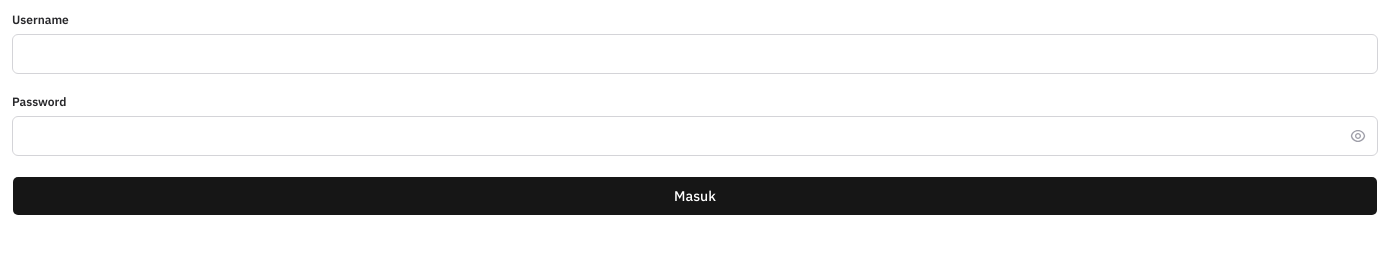
LoginForm › displays validation errors when submitting empty form
Click the button "Masuk".
click(695, 196)  # box [12,176,1378,216]
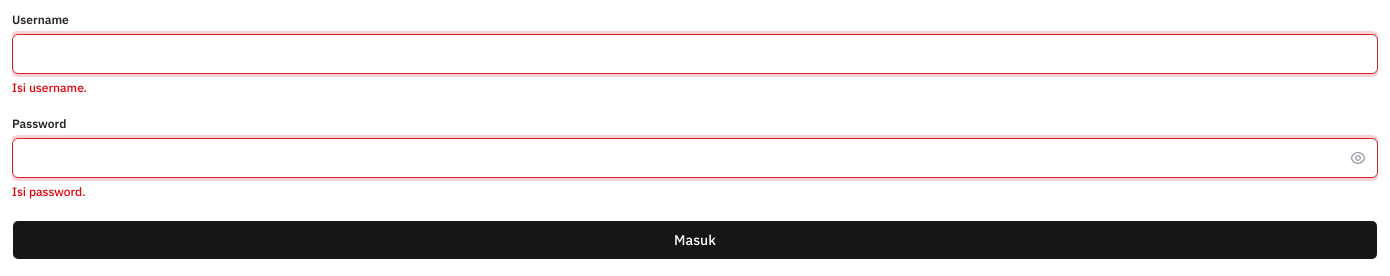
Now the text "Isi username." is shown, box [12,80,87,95]
Now the text "Isi password." is shown, box [12,184,86,199]
